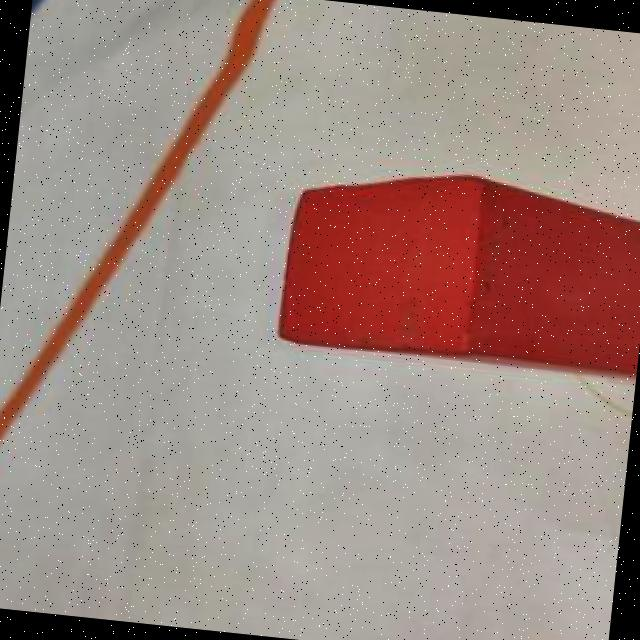redbox: (275, 160, 640, 378)
